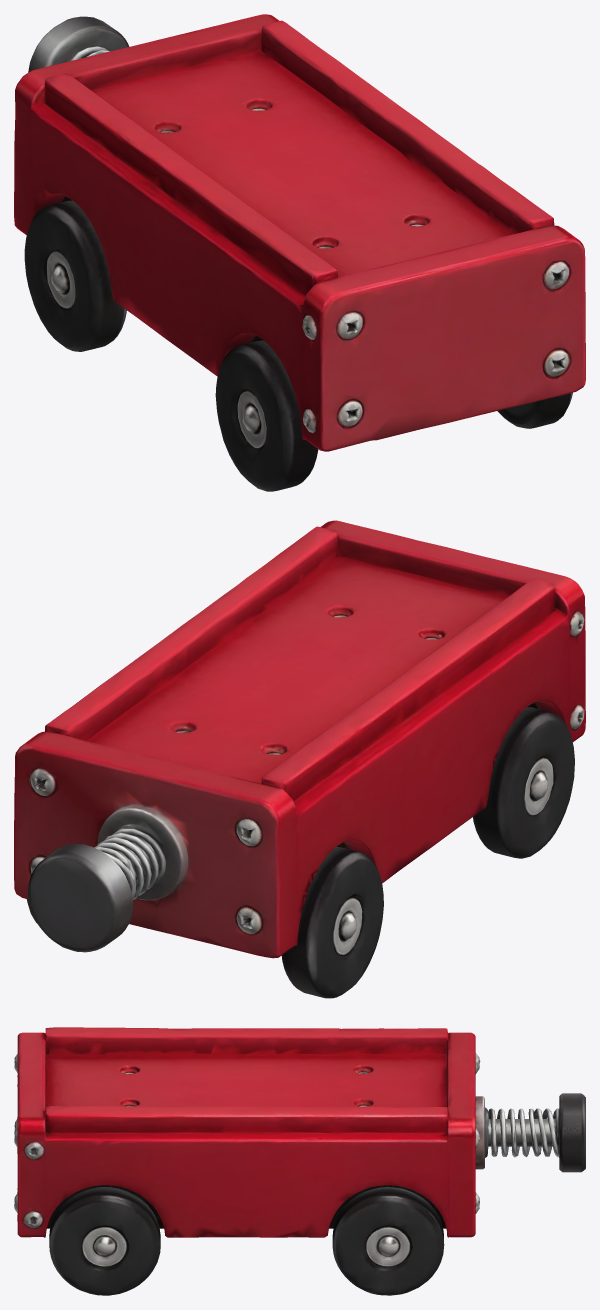
File: dynamics-cart.glb
3 renders of one model, top to bottom at view 1: azimuth 30°, elevation 25°; view 2: azimuth 150°, elevation 25°; view 3: azimuth 270°, elevation 25°, orthographic. The views are drawn at different scales.
Visible parts, largest first — view 1: dynamics-cart; view 2: dynamics-cart; view 3: dynamics-cart.
Boxes of the visible parts, x1,y1,x2,y2 form: dynamics-cart: (14, 14, 585, 491); dynamics-cart: (14, 520, 585, 998); dynamics-cart: (14, 1027, 585, 1295).
Size of the model in its own units: 0.0907 by 0.0676 by 0.2.
Materials: 1 (1 with a texture image).
